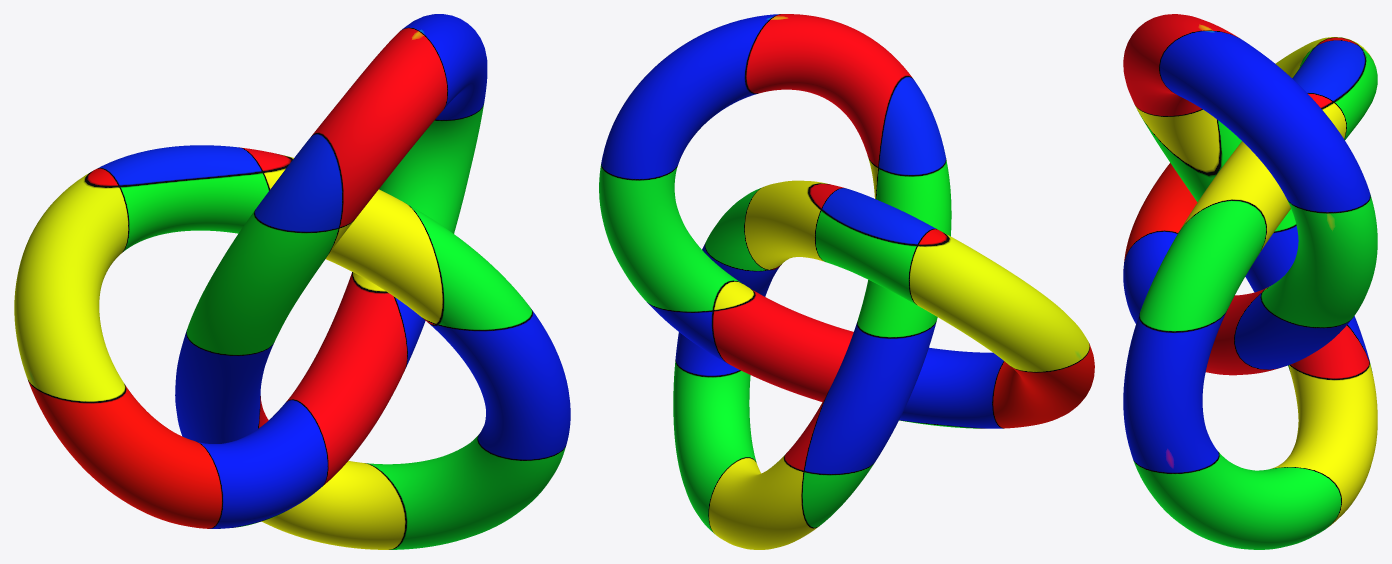
Rendered from knot.obj.
3 renders of one model, left to right at view 1: azimuth 30°, elevation 25°; view 2: azimuth 150°, elevation 25°; view 3: azimuth 270°, elevation 25°, orthographic. The views are drawn at different scales.
Visible parts, largest first — view 1: Torus_Knot; view 2: Torus_Knot; view 3: Torus_Knot.
Part boxes in pixels (left/top/right/bottom): Torus_Knot: left=14, top=14, right=570, bottom=549; Torus_Knot: left=599, top=14, right=1094, bottom=549; Torus_Knot: left=1123, top=14, right=1377, bottom=549.
Bounding box in the file's own units: 5.95 × 6.35 × 2.88.
Materials: 1 (1 with a texture image).
